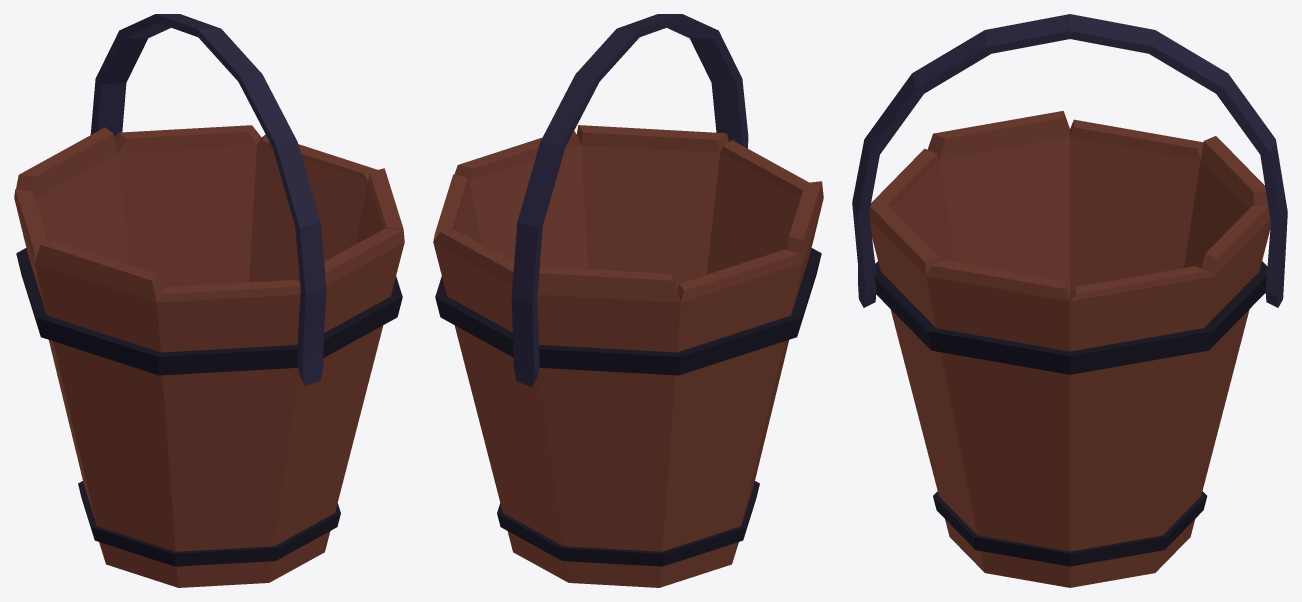
The model's file is Bucket.glb.
3 renders of one model, left to right at view 1: azimuth 30°, elevation 25°; view 2: azimuth 150°, elevation 25°; view 3: azimuth 270°, elevation 25°, orthographic.
Parts seen in each view (by area): view 1: Bucket; view 2: Bucket; view 3: Bucket.
Boxes of the visible parts, x1=… form: Bucket: x1=14, y1=14, x2=404, y2=587; Bucket: x1=433, y1=14, x2=823, y2=587; Bucket: x1=852, y1=14, x2=1287, y2=587.
Size of the model in its own units: 37.82 by 52.94 by 40.41.
